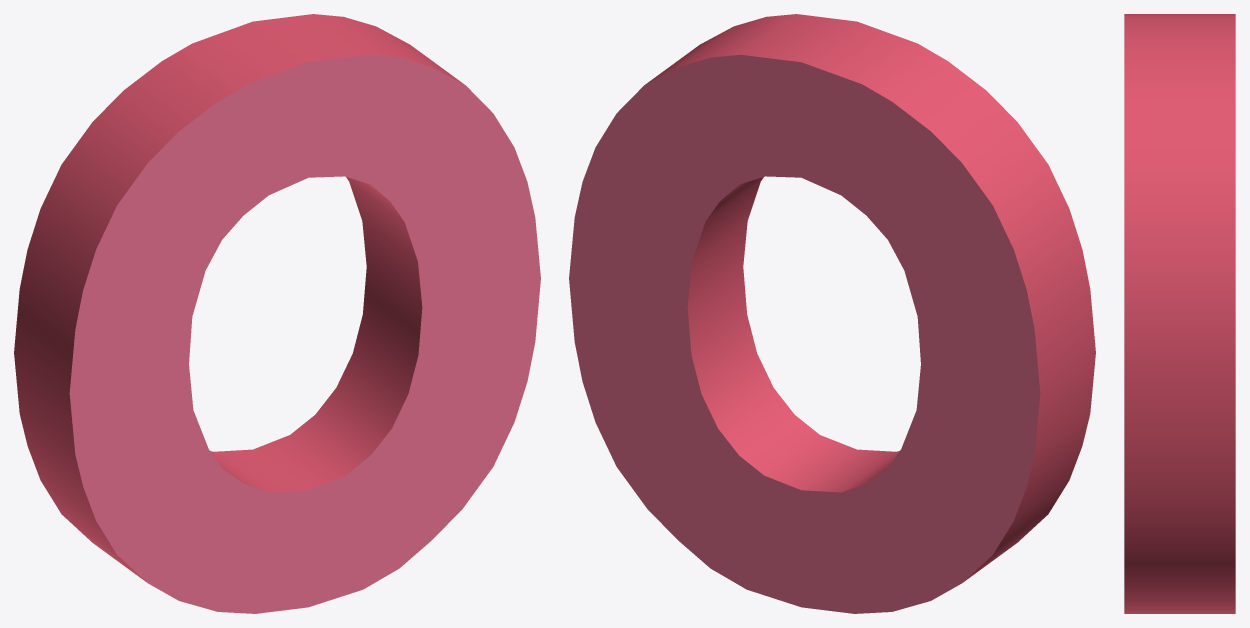
File: ENV1610015.fbx
3 renders of one model, left to right at view 1: azimuth 30°, elevation 25°; view 2: azimuth 150°, elevation 25°; view 3: azimuth 270°, elevation 25°, orthographic.
Visible parts, largest first — view 1: smENV1610015; view 2: smENV1610015; view 3: smENV1610015.
Part boxes in pixels (x1,y1,x2,y2): smENV1610015: [14, 14, 540, 613]; smENV1610015: [569, 14, 1095, 613]; smENV1610015: [1124, 14, 1235, 613].
Size of the model in its own units: 1.09 by 1.2 by 0.2221.
Materials: 1 (1 with a texture image).
